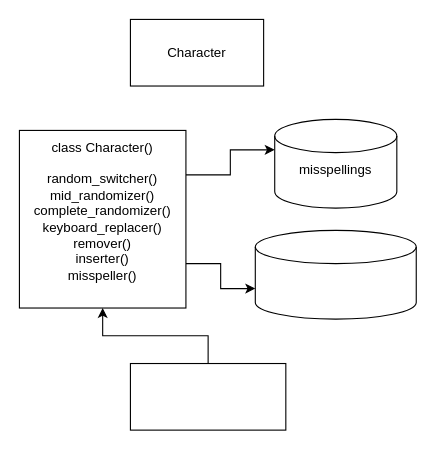
Image size: 436x450. Some labels were removed from this diagram. Each missing label, with the centre of its shape:
keyboard_replacements: point (335, 274)
replacement_engine(): point (207, 396)
